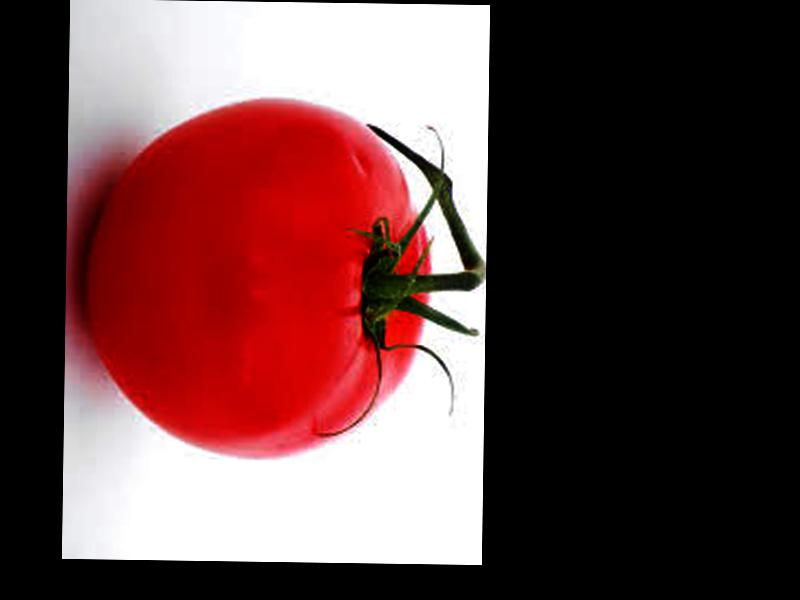Tomato: (80, 99, 431, 464)
